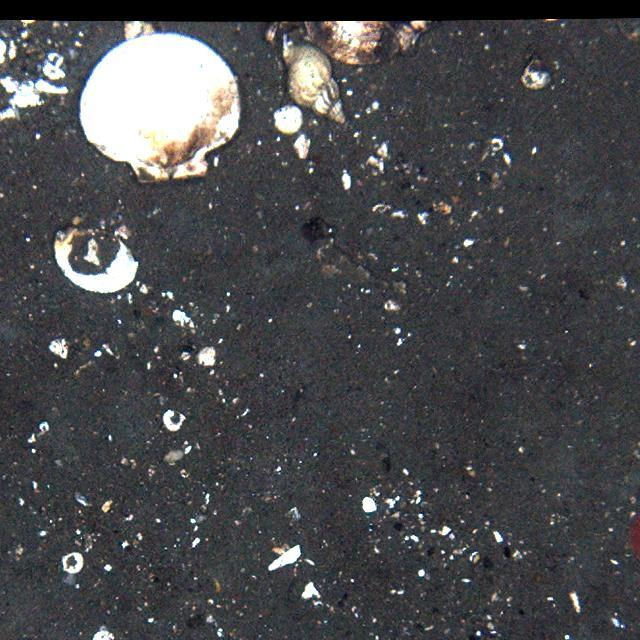whelk: (284, 39, 347, 127)
